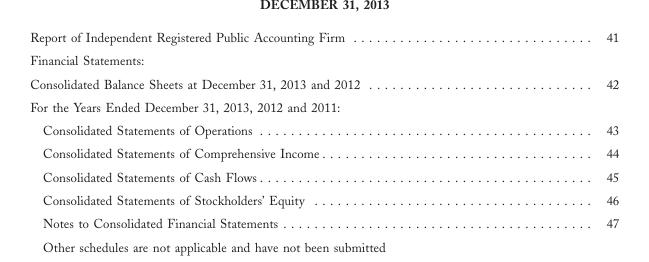table: (29, 29, 618, 230)
table column: (29, 29, 482, 230), (482, 29, 618, 230)
table projected row header: (29, 48, 618, 71), (29, 95, 618, 118)
table row: (29, 71, 618, 95), (29, 164, 618, 188), (29, 48, 618, 71), (29, 95, 618, 118), (29, 118, 618, 141), (29, 141, 618, 164), (29, 188, 618, 211), (29, 29, 618, 48), (29, 211, 618, 230)
